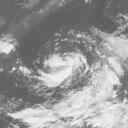cyclone: (38, 50, 89, 89)
